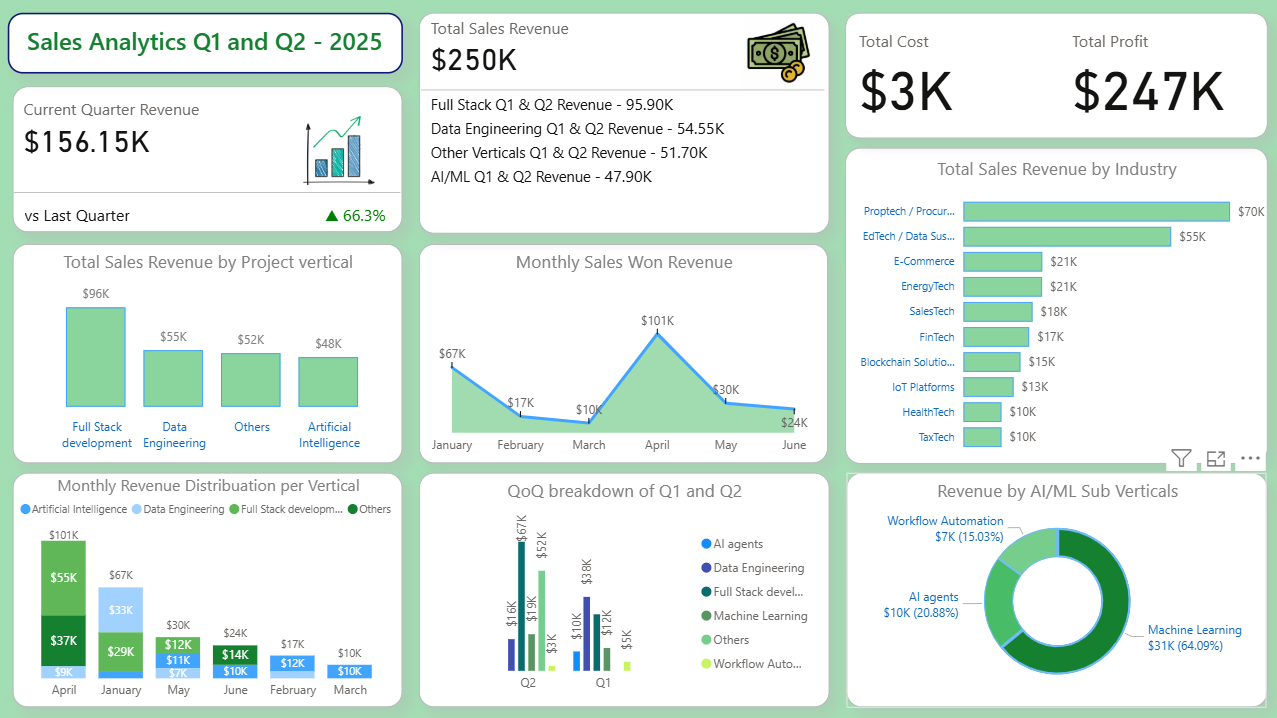

What the dashboard file says about the page in this screenshot:
{"tool":"powerbi","page":{"name":"Page 1","canvas":[1280,720],"ordinal":0},"visuals":[{"type":"lineChart","title":"Monthly Sales Won Revenue","fields":{"Category":["DateTable.MonthName"],"Y":["Sales.Total Revenue"]},"box":[419.8,244.9,409,219.6],"z":0},{"type":"cardVisual","title":"Total Current Revenue","fields":{"Data":["DateTable.Current Quarter Revenue"]},"box":[13.3,88.1,389.7,146],"z":1000},{"type":"textbox","box":[8.6,13.5,395,61.1],"z":2000},{"type":"clusteredBarChart","title":"Total Sales Revenue by Industry","fields":{"Y":["Sales.Total Revenue"],"Category":["Sales.Industry"]},"box":[845.7,148.4,422.3,316.1],"z":3000},{"type":"donutChart","title":"Revenue by AI/ML Sub Verticals","fields":{"Category":["Sales.AI_ML_SubVertical"],"Y":["Sales.Total Revenue"]},"box":[846.9,474.1,421,234],"z":4000},{"type":"clusteredColumnChart","title":"Total Sales Revenue by Project vertical","fields":{"Y":["Sales.Vertical Revenue"],"Category":["Sales.Project vertical"]},"box":[13.3,244.9,389.7,219.6],"z":5000},{"type":"cardVisual","fields":{"Data":["DateTable.Total Cost","DateTable.Total Profit"]},"box":[845.7,13.3,422.3,125.5],"z":6000},{"type":"cardVisual","fields":{"Data":["Sales.Total Revenue"]},"box":[419.8,13.3,410.2,220.8],"z":7000},{"type":"columnChart","title":"Monthly Revenue Distribuation per Vertical","fields":{"Category":["Sales.Month"],"Y":["Sales.Total Revenue"],"Series":["Sales.Project vertical"]},"box":[13.3,474.1,389.7,234],"z":8000},{"type":"clusteredColumnChart","title":"QoQ breakdown of Q1 and Q2","fields":{"Category":["DateTable.QuarterName"],"Y":["Sales.Total Revenue"],"Series":["Sales.CategoryForLegend"]},"box":[419.8,474.1,410.2,234],"z":9000}]}

Visuals, with their boxes in screenshot pixels (x1, y1, x2, y2), scaled from the page's 1280x720 canvas onto the 1277x718 screenshot:
"Monthly Sales Won Revenue" lineChart: bbox=[419, 244, 827, 463]
"Total Current Revenue" cardVisual: bbox=[13, 88, 402, 233]
textbox: bbox=[9, 13, 403, 74]
"Total Sales Revenue by Industry" clusteredBarChart: bbox=[844, 148, 1265, 463]
"Revenue by AI/ML Sub Verticals" donutChart: bbox=[845, 473, 1265, 706]
"Total Sales Revenue by Project vertical" clusteredColumnChart: bbox=[13, 244, 402, 463]
cardVisual - DateTable.Total Cost x DateTable.Total Profit: bbox=[844, 13, 1265, 138]
cardVisual - Sales.Total Revenue: bbox=[419, 13, 828, 233]
"Monthly Revenue Distribuation per Vertical" columnChart: bbox=[13, 473, 402, 706]
"QoQ breakdown of Q1 and Q2" clusteredColumnChart: bbox=[419, 473, 828, 706]
